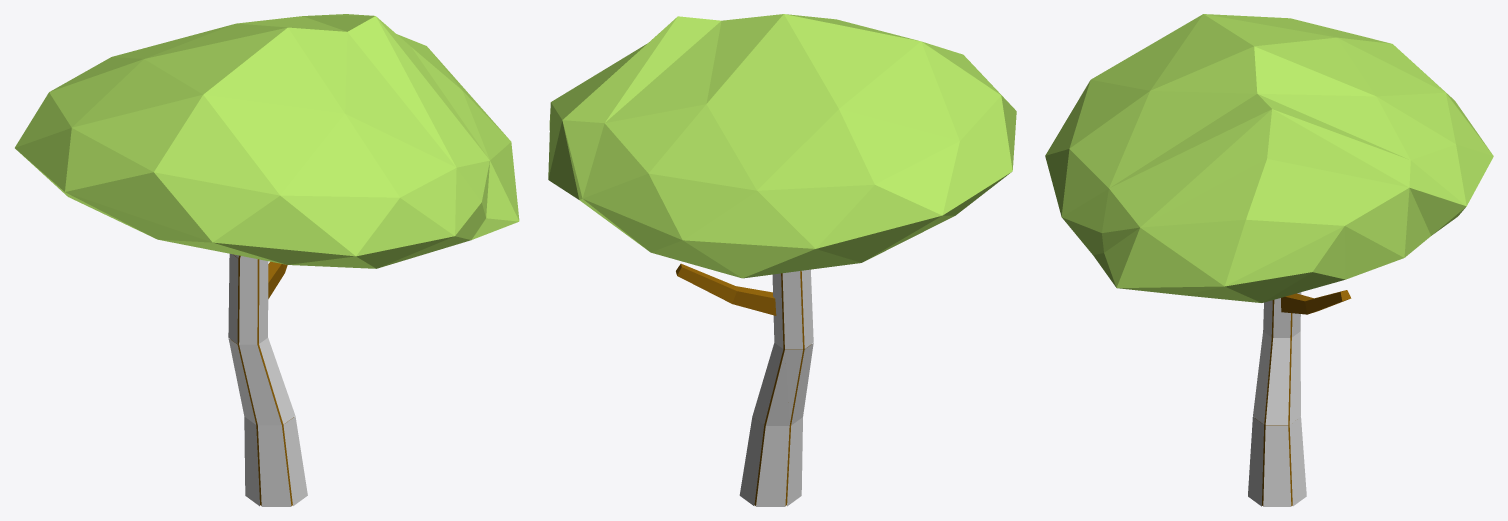
Rendered from tree.glb.
3 views of the same model, side by side, from view 1: azimuth 30°, elevation 25°; view 2: azimuth 150°, elevation 25°; view 3: azimuth 270°, elevation 25° (orthographic). The views are drawn at different scales.
Visible parts, largest first — view 1: Tree3, Tree3_Madera.003_0.001; view 2: Tree3, Tree3_Madera.003_0.001; view 3: Tree3, Tree3_Madera.003_0.001.
Boxes of the visible parts, x1,y1,x2,y2 form: Tree3: (15,14,519,505); Tree3_Madera.003_0.001: (228,254,307,506); Tree3: (548,14,1016,505); Tree3_Madera.003_0.001: (739,269,813,506); Tree3: (1045,14,1493,505); Tree3_Madera.003_0.001: (1248,292,1306,506).
Bounding box in the file's own units: 15.52 × 16.27 × 14.72.
